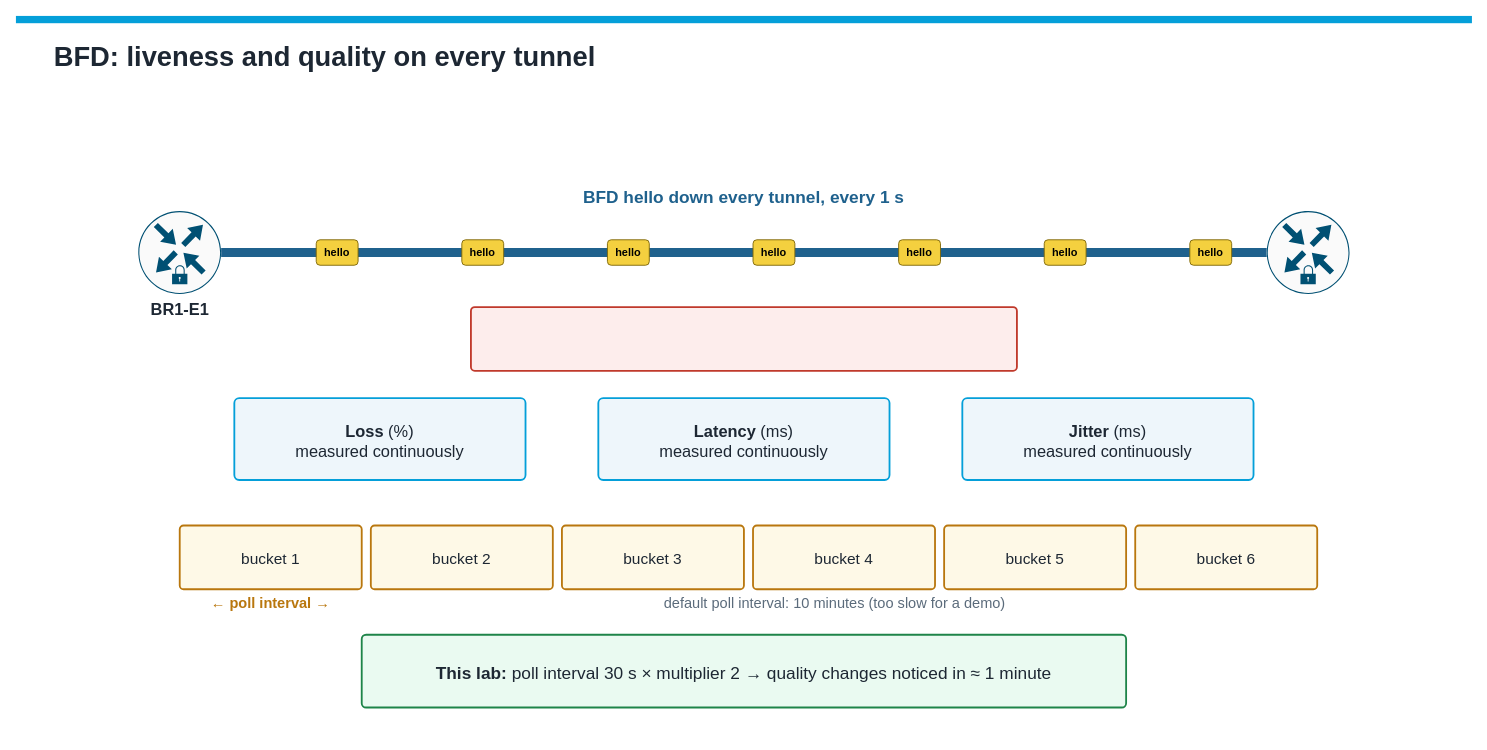
The diagram is 1487 pixels wide and 750 high, and some of its shapes have lost their labels. The shapes that lost their labels are listed below. From the top down, each one's centre as x and y in pixels, then its label:
[1308,252]: DC-E1
[743,338]: several hellos lost in a row → tunnel down → traffic moves in seconds
